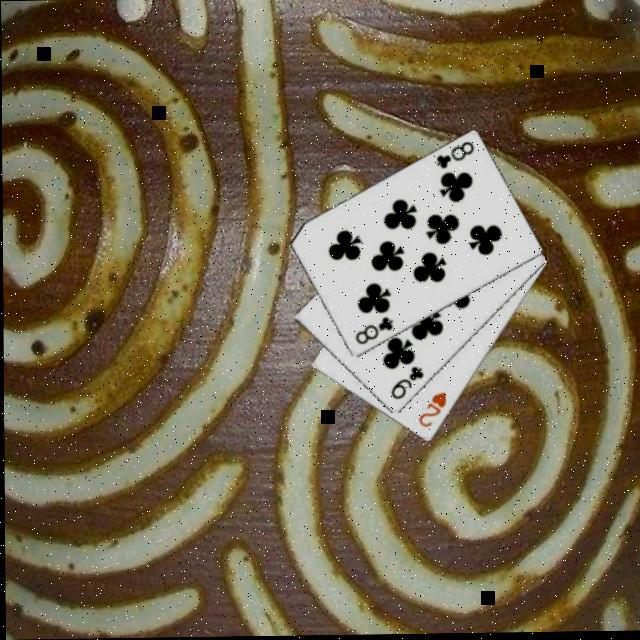2H: (413, 387, 447, 429)
8C: (349, 312, 394, 347), (430, 137, 474, 172)
9C: (384, 362, 424, 402)
